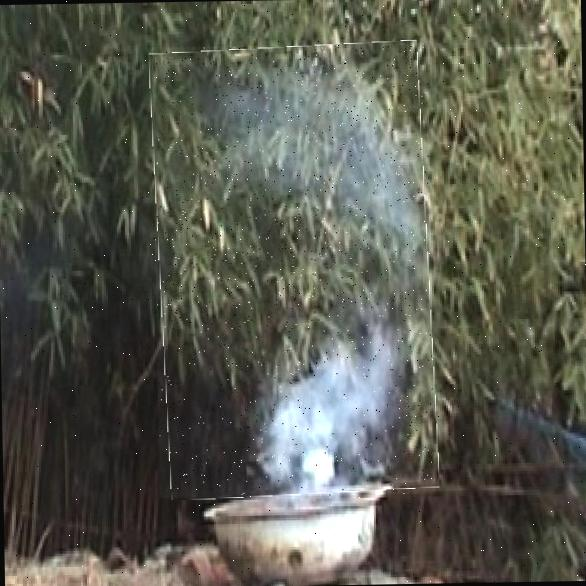smoke: (151, 42, 435, 498)
